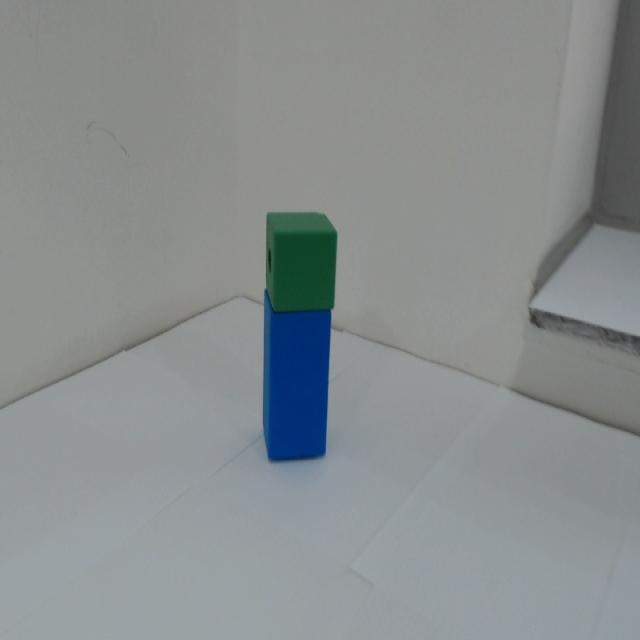cube: (257, 201, 343, 312)
